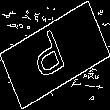P_SE: (33, 24, 77, 86)
